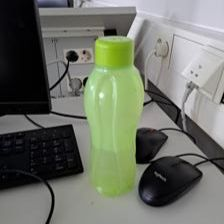bottle: (84, 32, 142, 196)
